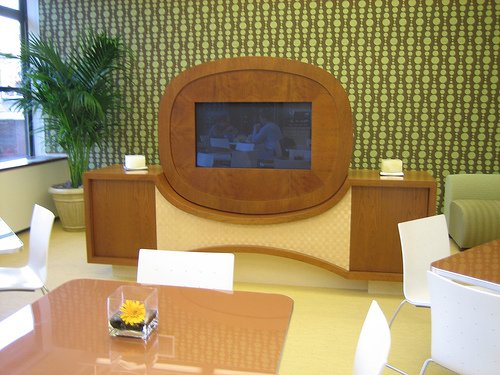chair: (155, 286, 296, 374), (422, 244, 500, 374), (397, 215, 452, 307), (2, 209, 56, 292), (444, 175, 500, 251), (138, 250, 236, 292)
couch: (443, 176, 500, 250)
dining table: (4, 280, 292, 374)
person: (250, 116, 284, 166)
potted plant: (21, 32, 120, 229), (106, 293, 158, 373)
